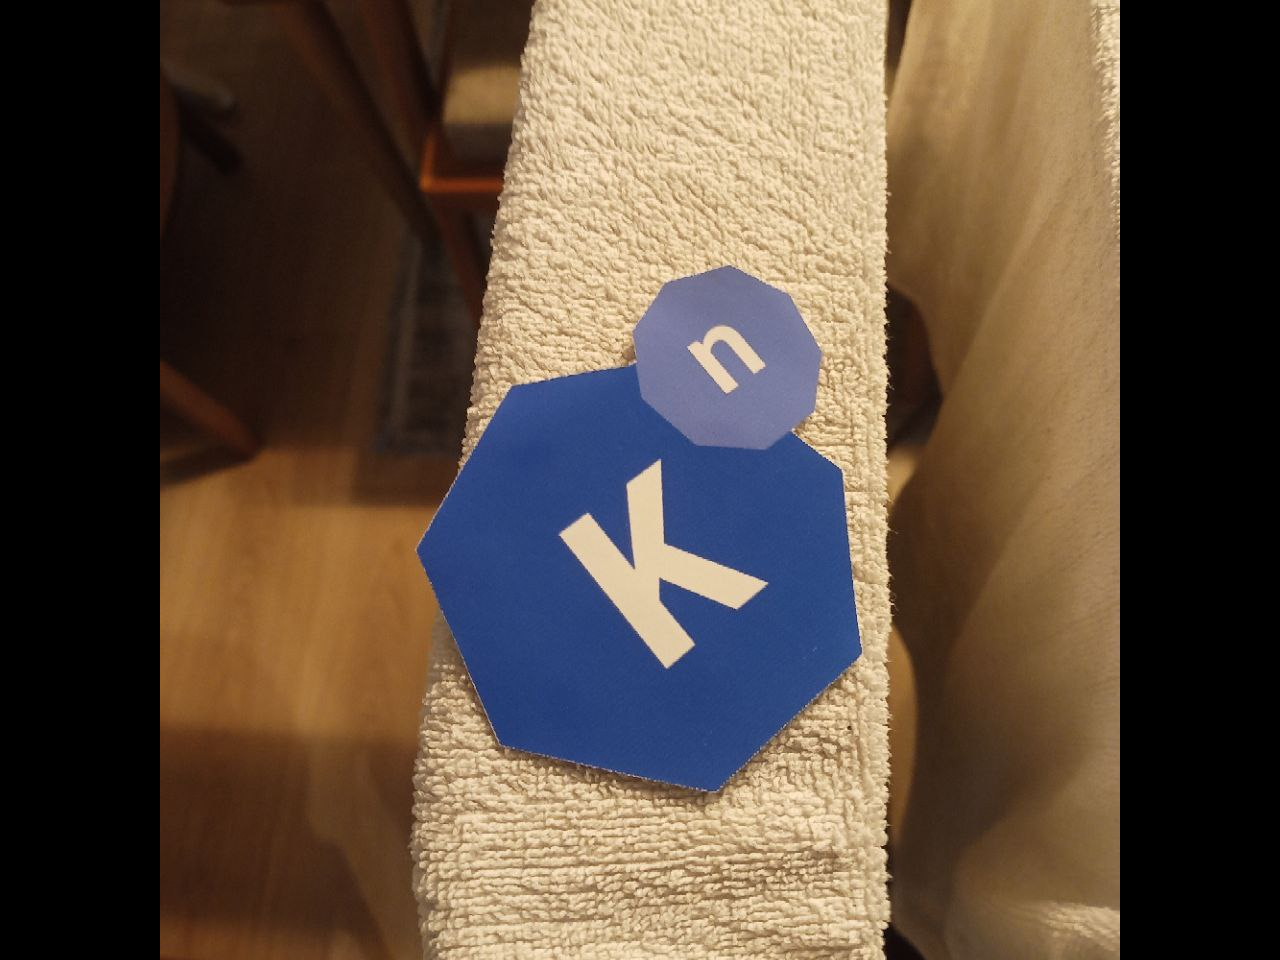knative: (413, 263, 863, 796)
